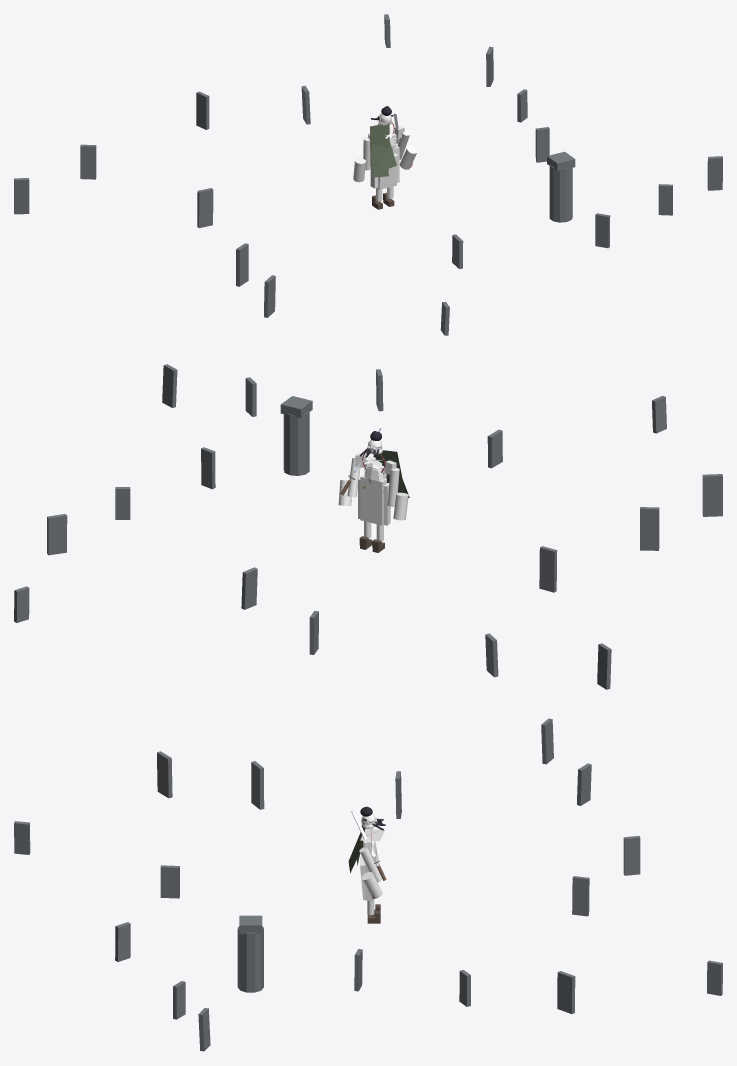
The model's file is ronin_cinematic_v0.4.glb.
3 renders of one model, top to bottom at view 1: azimuth 30°, elevation 25°; view 2: azimuth 150°, elevation 25°; view 3: azimuth 270°, elevation 25°, orthographic. The views are drawn at different scales.
Parts seen in each view (by area): view 1: Env_StoneLantern, Env_Gravestone_8, Env_Gravestone_6, Env_Gravestone_7, Env_Gravestone_15, Env_Gravestone_9; view 2: Env_StoneLantern, Cloth_SkirtPanel_0, Env_Gravestone_10, Env_Gravestone_9, Env_Gravestone_2, Env_Gravestone_8, Env_Gravestone_4, Env_Gravestone_7, Env_Gravestone_15, Env_Gravestone_0, Env_Gravestone_3, Env_Gravestone_1 (+2 smaller); view 3: Env_StoneLantern, Env_Gravestone_2, Env_Gravestone_4, Env_Gravestone_5, Env_Gravestone_12, Env_Gravestone_10, Env_Gravestone_13, Env_Gravestone_9, Env_Gravestone_6, Env_Gravestone_11, Env_Gravestone_3.
Part boxes in pixels (x1,y1,x2,y2): Env_StoneLantern: [549, 165, 572, 222]; Env_Gravestone_8: [197, 188, 213, 228]; Env_Gravestone_6: [80, 144, 96, 179]; Env_Gravestone_7: [14, 178, 29, 214]; Env_Gravestone_15: [707, 156, 722, 190]; Env_Gravestone_9: [236, 243, 248, 286]; Env_StoneLantern: [283, 411, 309, 475]; Cloth_SkirtPanel_0: [360, 474, 386, 525]; Env_Gravestone_10: [702, 474, 722, 516]; Env_Gravestone_9: [640, 507, 659, 550]; Env_Gravestone_2: [47, 514, 67, 555]; Env_Gravestone_8: [539, 546, 557, 592]; Env_Gravestone_4: [241, 567, 257, 609]; Env_Gravestone_7: [597, 643, 611, 689]; Env_Gravestone_15: [162, 364, 177, 407]; Env_Gravestone_0: [201, 447, 215, 489]; Env_Gravestone_3: [14, 586, 29, 622]; Env_Gravestone_1: [115, 487, 130, 519]; Env_StoneLantern: [237, 926, 263, 992]; Env_Gravestone_2: [557, 971, 575, 1013]; Env_Gravestone_4: [572, 876, 589, 916]; Env_Gravestone_5: [623, 835, 640, 875]; Env_Gravestone_12: [160, 865, 179, 898]; Env_Gravestone_10: [157, 751, 172, 798]; Env_Gravestone_13: [115, 922, 130, 961]; Env_Gravestone_9: [251, 761, 264, 809]; Env_Gravestone_6: [577, 763, 591, 805]; Env_Gravestone_11: [14, 821, 30, 854]; Env_Gravestone_3: [707, 960, 722, 995].
Size of what is drawn, in the model's own units: 10.83 by 1.92 by 10.81.
